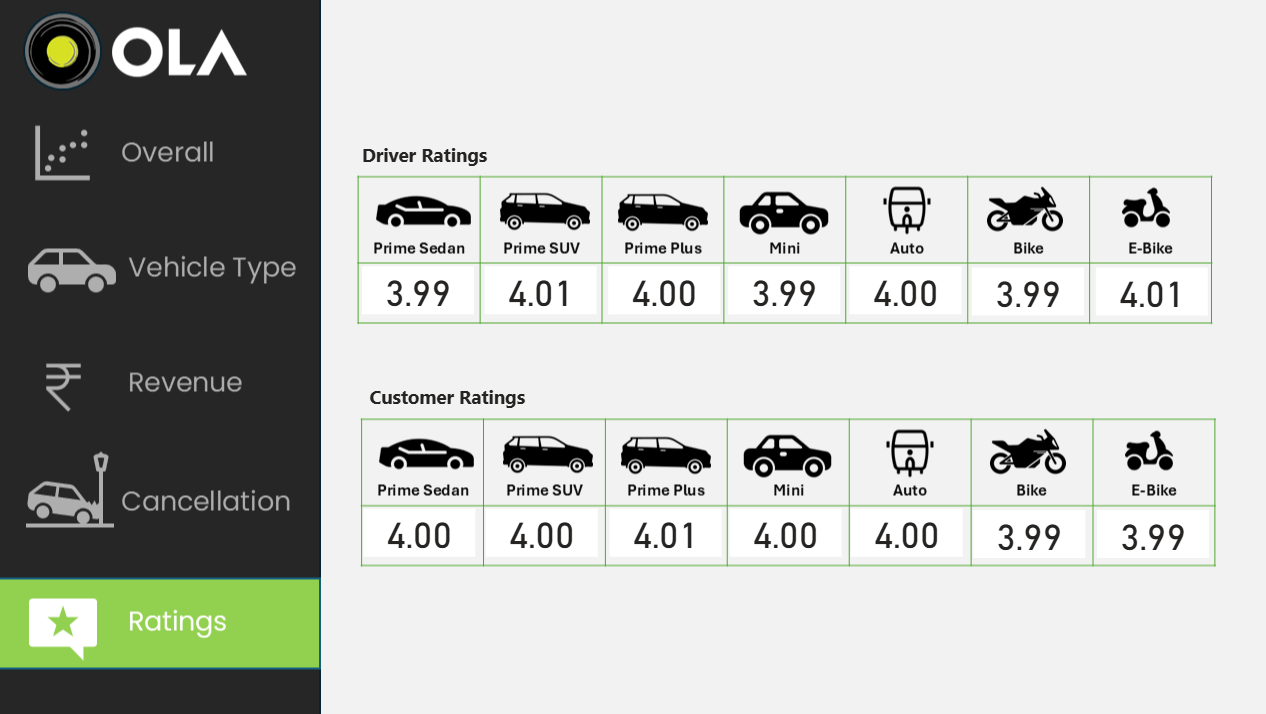

The dashboard page shown, as its layout file describes it:
{"tool":"powerbi","page":{"name":"rating","canvas":[1280,720],"ordinal":4},"visuals":[{"type":"actionButton","box":[0,113.9,323.8,90.6],"z":0},{"type":"actionButton","box":[0,446,323.8,105.7],"z":1000},{"type":"actionButton","box":[0,337.6,323.8,90.6],"z":2000},{"type":"actionButton","box":[0,220.9,323.8,90.6],"z":3000},{"type":"card","fields":{"Values":["Avg(olasheet.Driver_Ratings)"]},"box":[364.6,266.2,112.3,47.7],"z":4000},{"type":"card","fields":{"Values":["Avg(olasheet.Driver_Ratings)"]},"box":[487.7,266.2,112.3,47.7],"z":5000},{"type":"card","fields":{"Values":["Avg(olasheet.Driver_Ratings)"]},"box":[610.8,266.2,112.3,47.7],"z":6000},{"type":"card","fields":{"Values":["Avg(olasheet.Driver_Ratings)"]},"box":[730.8,266.2,112.3,47.7],"z":7000},{"type":"card","fields":{"Values":["Avg(olasheet.Driver_Ratings)"]},"box":[852.3,266.2,112.3,47.7],"z":8000},{"type":"card","fields":{"Values":["Avg(olasheet.Driver_Ratings)"]},"box":[975.4,267.7,112.3,47.7],"z":9000},{"type":"card","fields":{"Values":["Avg(olasheet.Driver_Ratings)"]},"box":[1098.5,267.7,112.3,47.7],"z":10000},{"type":"card","fields":{"Values":["Avg(olasheet.Customer_Rating)"]},"box":[366,508.8,112.3,47.7],"z":11000},{"type":"card","fields":{"Values":["Avg(olasheet.Customer_Rating)"]},"box":[489.1,508.8,112.3,47.7],"z":12000},{"type":"card","fields":{"Values":["Avg(olasheet.Customer_Rating)"]},"box":[612.2,508.8,112.3,47.7],"z":13000},{"type":"card","fields":{"Values":["Avg(olasheet.Customer_Rating)"]},"box":[732.2,508.8,112.3,47.7],"z":14000},{"type":"card","fields":{"Values":["Avg(olasheet.Customer_Rating)"]},"box":[853.7,508.8,112.3,47.7],"z":15000},{"type":"card","fields":{"Values":["Avg(olasheet.Customer_Rating)"]},"box":[976.8,510.3,112.3,47.7],"z":16000},{"type":"card","fields":{"Values":["Avg(olasheet.Customer_Rating)"]},"box":[1099.8,510.3,112.3,47.7],"z":17000},{"type":"textbox","box":[360,136.9,155.4,44.6],"z":18000},{"type":"textbox","box":[367.7,378.5,223.1,49.2],"z":19000}]}

Visuals, with their boxes on the page's 1280x720 design canvas (x1, y1, x2, y2). These are canvas units, not pixel positions in the 1266x714 screenshot, which may show the page scaled, cropped or inside an application window:
actionButton: BBox(0, 114, 324, 204)
actionButton: BBox(0, 446, 324, 552)
actionButton: BBox(0, 338, 324, 428)
actionButton: BBox(0, 221, 324, 312)
card - Avg(olasheet.Driver_Ratings): BBox(365, 266, 477, 314)
card - Avg(olasheet.Driver_Ratings): BBox(488, 266, 600, 314)
card - Avg(olasheet.Driver_Ratings): BBox(611, 266, 723, 314)
card - Avg(olasheet.Driver_Ratings): BBox(731, 266, 843, 314)
card - Avg(olasheet.Driver_Ratings): BBox(852, 266, 965, 314)
card - Avg(olasheet.Driver_Ratings): BBox(975, 268, 1088, 315)
card - Avg(olasheet.Driver_Ratings): BBox(1098, 268, 1211, 315)
card - Avg(olasheet.Customer_Rating): BBox(366, 509, 478, 556)
card - Avg(olasheet.Customer_Rating): BBox(489, 509, 601, 556)
card - Avg(olasheet.Customer_Rating): BBox(612, 509, 724, 556)
card - Avg(olasheet.Customer_Rating): BBox(732, 509, 844, 556)
card - Avg(olasheet.Customer_Rating): BBox(854, 509, 966, 556)
card - Avg(olasheet.Customer_Rating): BBox(977, 510, 1089, 558)
card - Avg(olasheet.Customer_Rating): BBox(1100, 510, 1212, 558)
textbox: BBox(360, 137, 515, 182)
textbox: BBox(368, 378, 591, 428)
